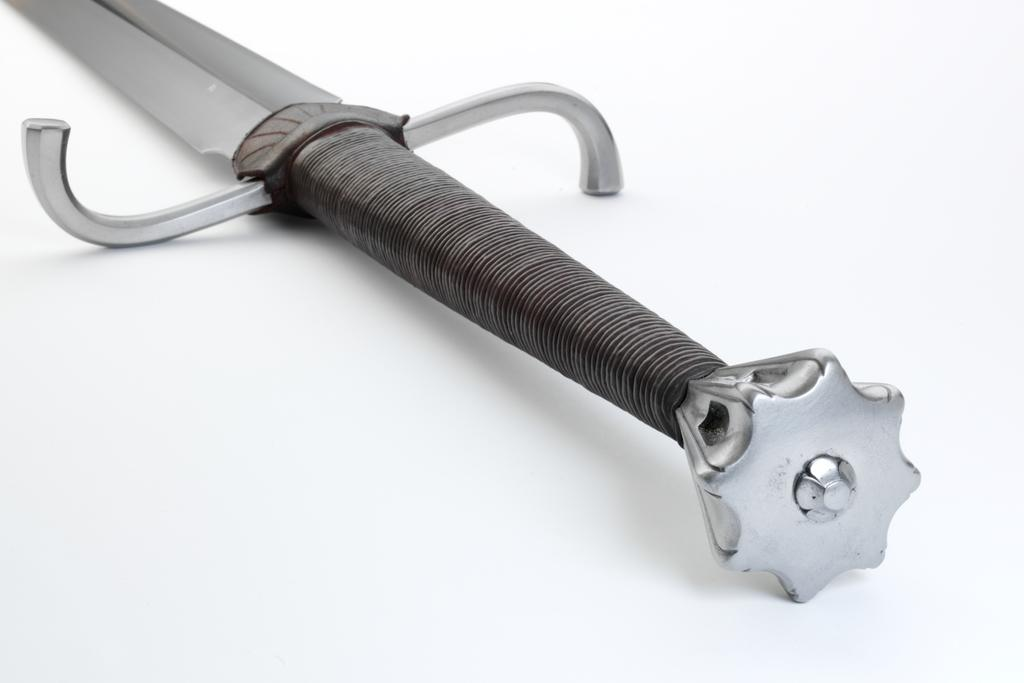Sword: (2, 0, 922, 602)
